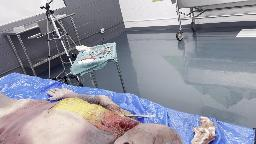scalpel: (119, 114, 157, 118)
